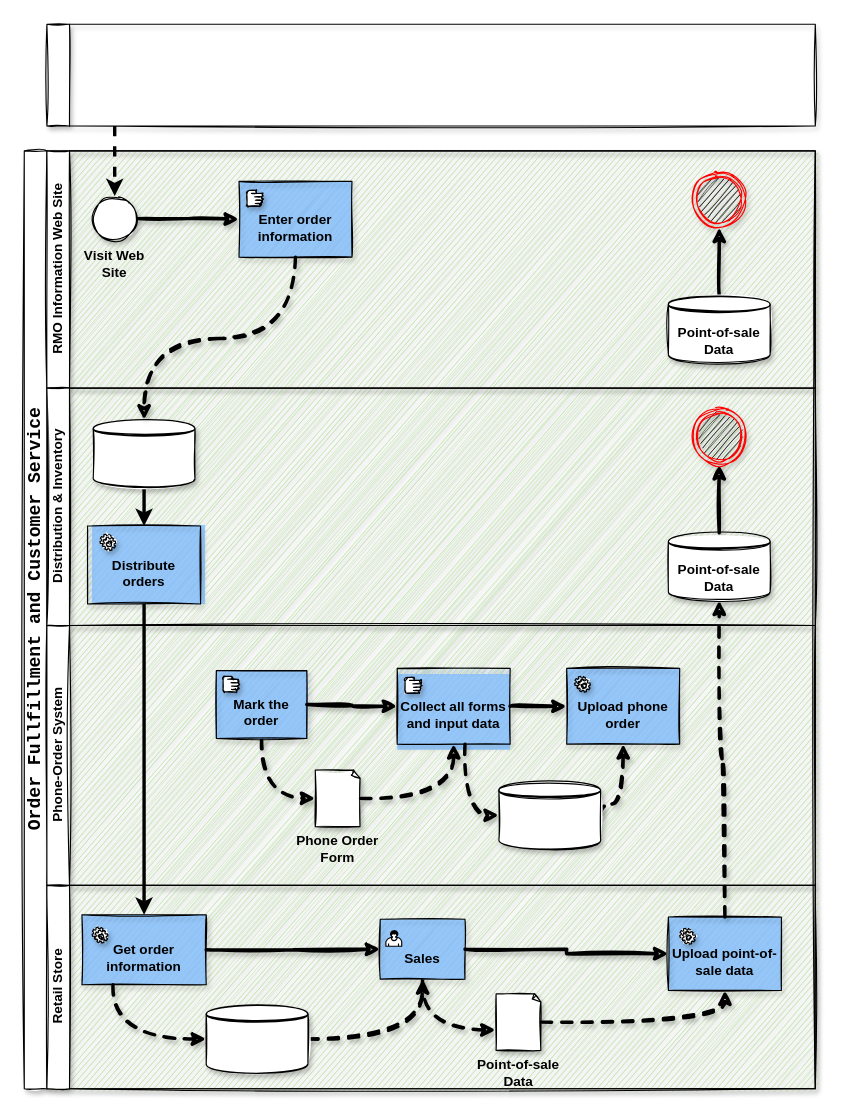
Some shapes in this 842 by 1116 pixel diagram are drawn without their labels. The centre of each missing label's shape, as x and y in pixels:
"Customer" belongs at (x=431, y=76).
"Order Information" belongs at (x=145, y=455).
"Phone order Information" belongs at (x=550, y=816).
"Retail order Information" belongs at (x=258, y=1040).
